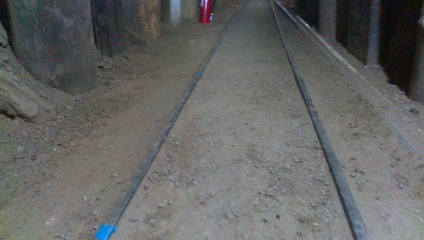fire_extinguisher: (199, 0, 215, 24)
